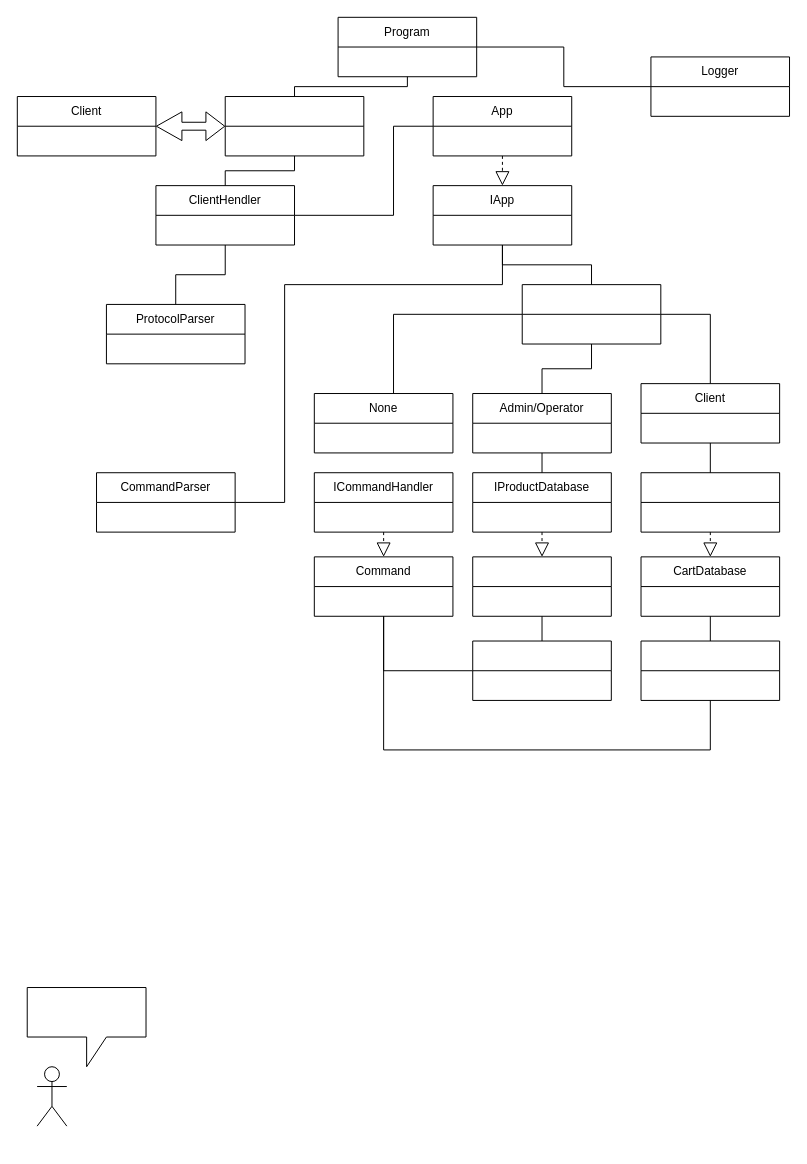
This 807x1164 diagram has some shape labels left out. Here are the shapes that lost their labels. From the top down, the centre of each, then its label:
the point at 294,126: Server
the point at 591,314: User
the point at 710,502: ICartDatabase
the point at 541,586: ProductDatabase
the point at 541,670: Product
the point at 710,670: CartItem
the point at 86,1027: Help!
the point at 51,1096: Actor
